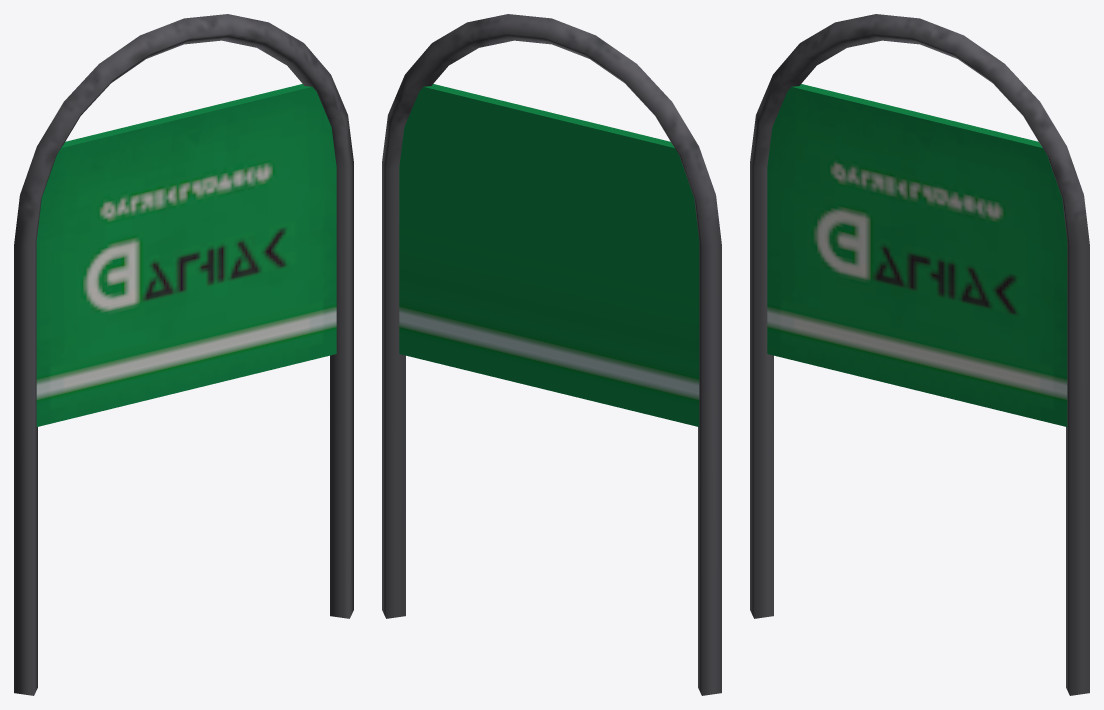
Rendered from objects_un_cityboard01north01.gltf.
The picture shows the model from 3 angles, left to right: view 1: azimuth 30°, elevation 25°; view 2: azimuth 150°, elevation 25°; view 3: azimuth 330°, elevation 25°; orthographic projection.
Visible parts, largest first — view 1: nomerge_eastboard_shape:objects_un_cityboard01north01_01; view 2: nomerge_eastboard_shape:objects_un_cityboard01north01_01; view 3: nomerge_eastboard_shape:objects_un_cityboard01north01_01.
Part boxes in pixels (x1=…): nomerge_eastboard_shape:objects_un_cityboard01north01_01: x1=14, y1=14, x2=353, y2=695; nomerge_eastboard_shape:objects_un_cityboard01north01_01: x1=382, y1=14, x2=721, y2=695; nomerge_eastboard_shape:objects_un_cityboard01north01_01: x1=750, y1=14, x2=1089, y2=695.
Size of what is drawn, in the model's own units: 1.49 by 2.66 by 0.12.
Materials: 2 (1 with a texture image).
